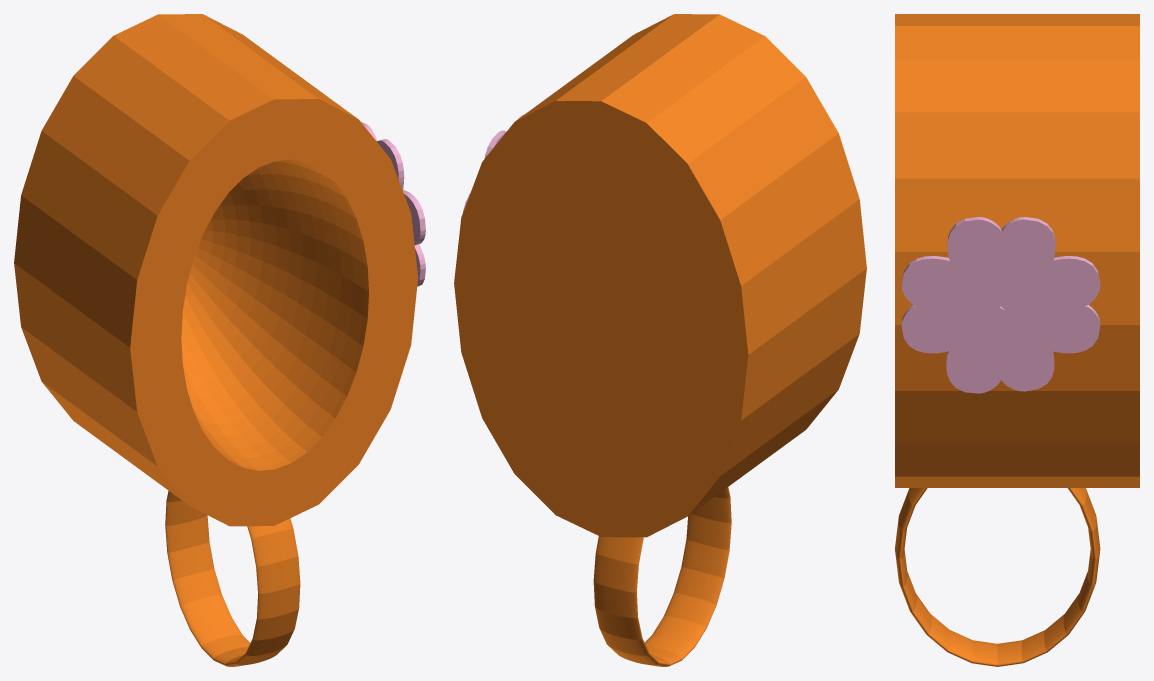
File: tinker.obj
3 views of the same model, side by side, from view 1: azimuth 30°, elevation 25°; view 2: azimuth 150°, elevation 25°; view 3: azimuth 270°, elevation 25° (orthographic). The views are drawn at different scales.
Visible parts, largest first — view 1: group_0_16089887, group_0_15708628; view 2: group_0_16089887; view 3: group_0_16089887, group_0_15708628.
Part boxes in pixels (x1,y1,x2,y2): group_0_16089887: (14,14,418,666); group_0_15708628: (361,122,425,286); group_0_16089887: (454,14,866,666); group_0_16089887: (895,14,1139,666); group_0_15708628: (901,217,1100,393).
Size of the model in its own units: 55 by 105 by 37.
